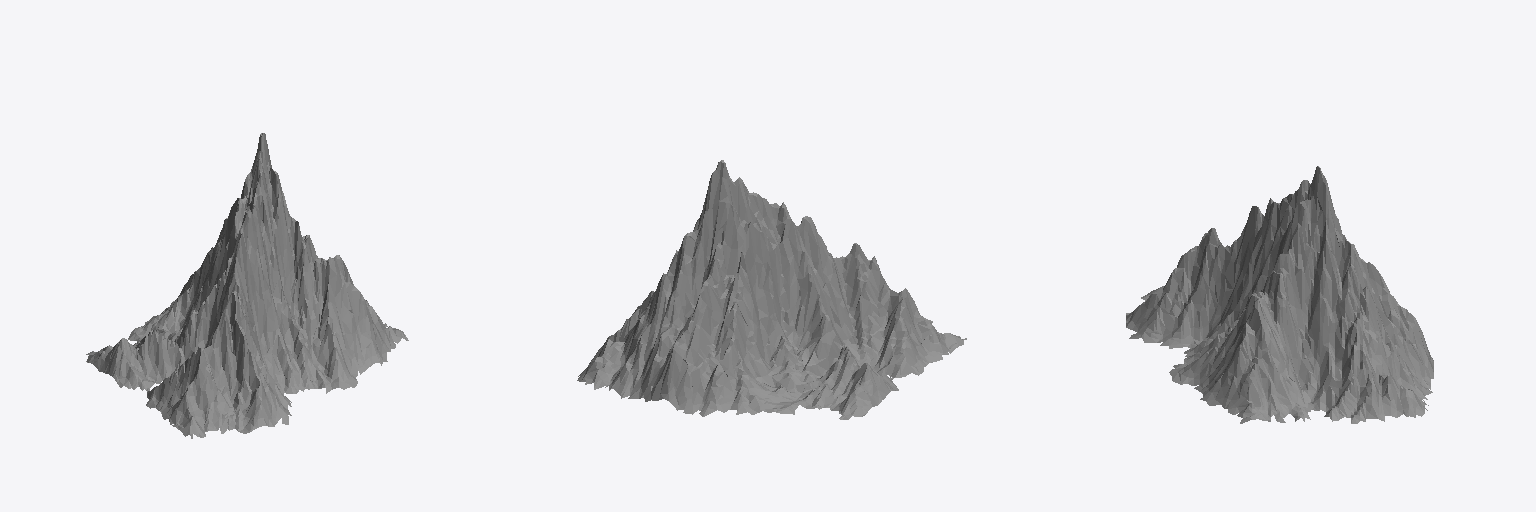
Rendered from Mountain02.obj.
3 views of the same model, side by side, from view 1: azimuth 30°, elevation 25°; view 2: azimuth 150°, elevation 25°; view 3: azimuth 270°, elevation 25° (orthographic).
Visible parts, largest first — view 1: mt22; view 2: mt22; view 3: mt22.
Part boxes in pixels (x1,y1,x2,y2): mt22: (86, 133, 408, 438); mt22: (577, 160, 966, 419); mt22: (1126, 166, 1433, 423).
Size of the model in its own units: 400 by 296 by 400.